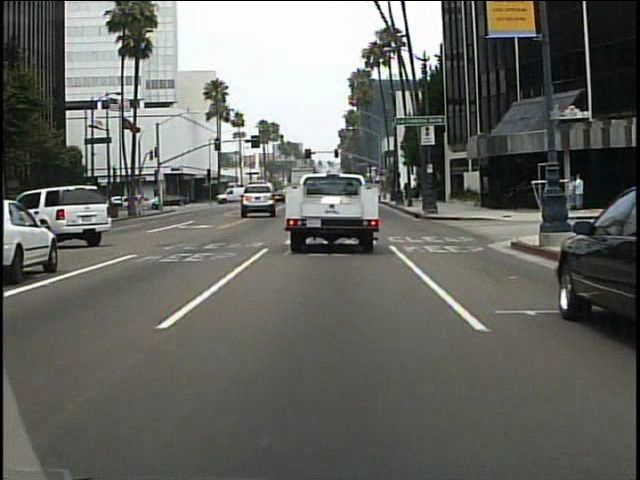person: (572, 170, 587, 212), (564, 173, 578, 216), (152, 189, 165, 214)
